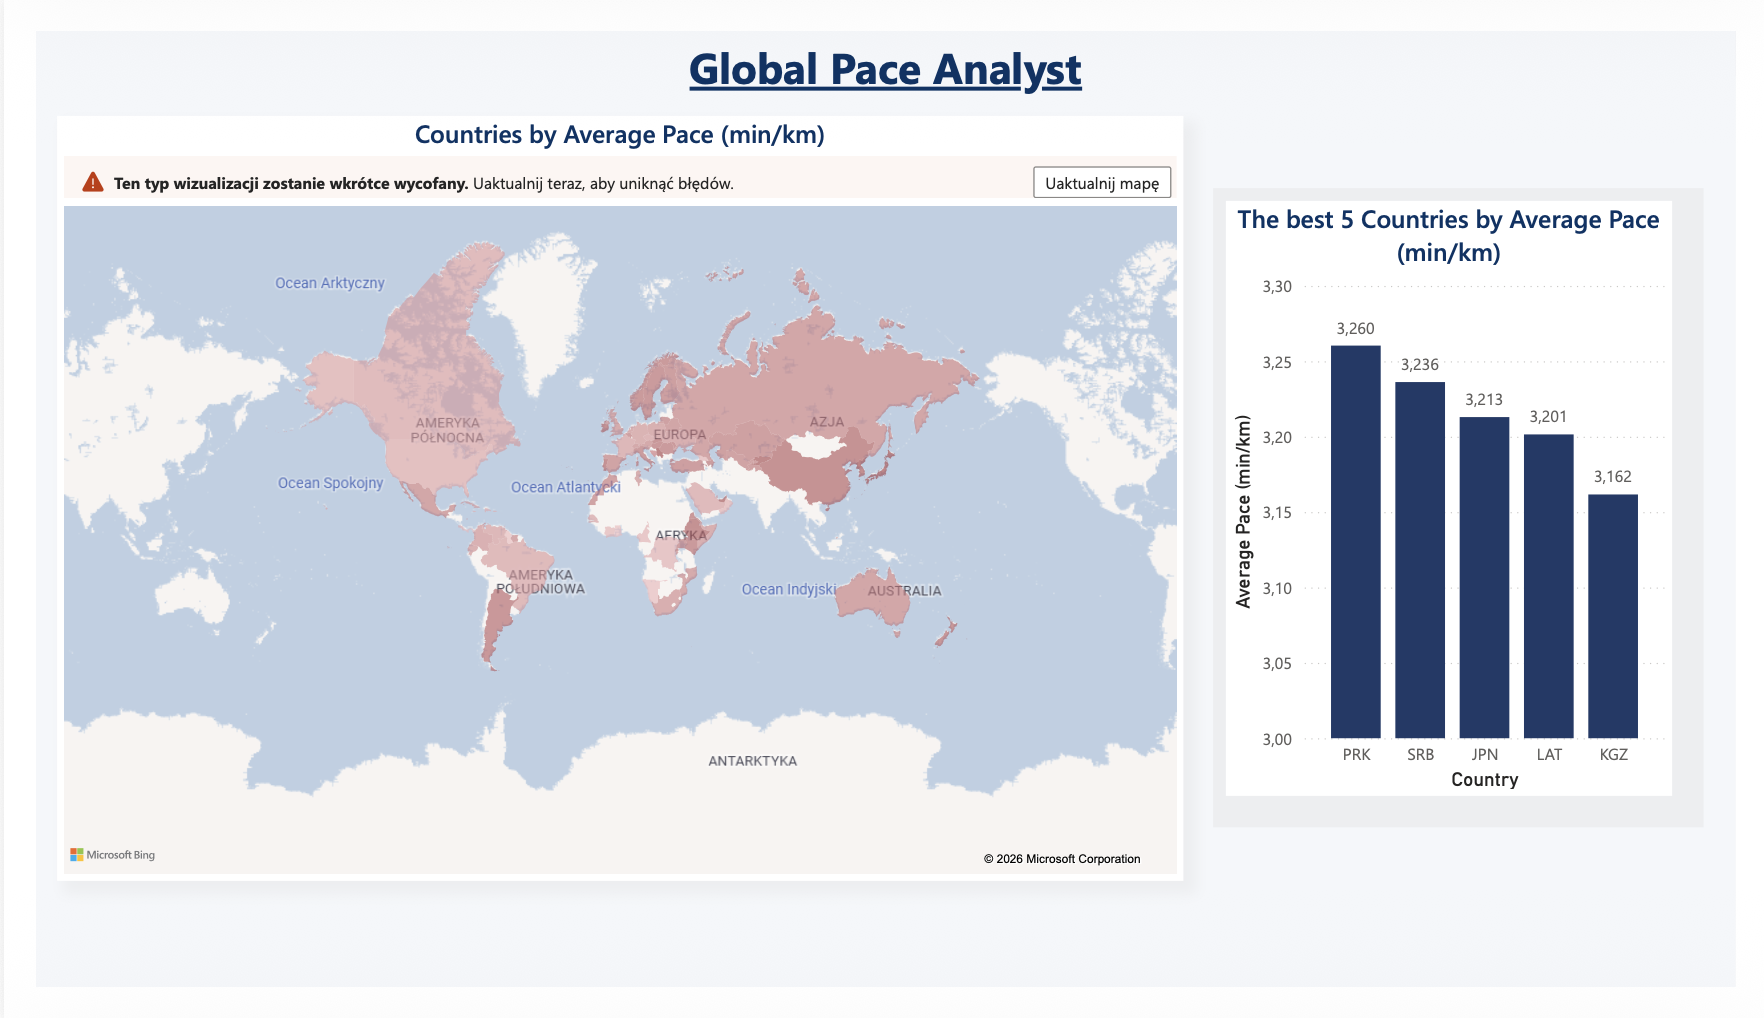

What the dashboard file says about the page in this screenshot:
{"tool":"powerbi","page":{"name":"Strona 2","canvas":[1280,720],"ordinal":1},"visuals":[{"type":"filledMap","title":"Countries by Average Pace (min/km)","fields":{"Category":["data.Country"]},"box":[16,64,848,576],"z":0},{"type":"columnChart","title":"The best 5 Countries by Average Pace (min/km)","fields":{"Y":["data.Average Pace (min/km)"],"Category":["data.Country"]},"box":[896,128,336,448],"z":1000},{"type":"textbox","box":[192,0,896,64],"z":1002}]}

Visuals, with their boxes in screenshot pixels (x1, y1, x2, y2), scaled from the page's 1280x720 canvas onto the 1764x1018 screenshot:
"Countries by Average Pace (min/km)" filledMap: <box>22,90,1191,905</box>
"The best 5 Countries by Average Pace (min/km)" columnChart: <box>1235,181,1698,814</box>
textbox: <box>265,0,1499,90</box>
